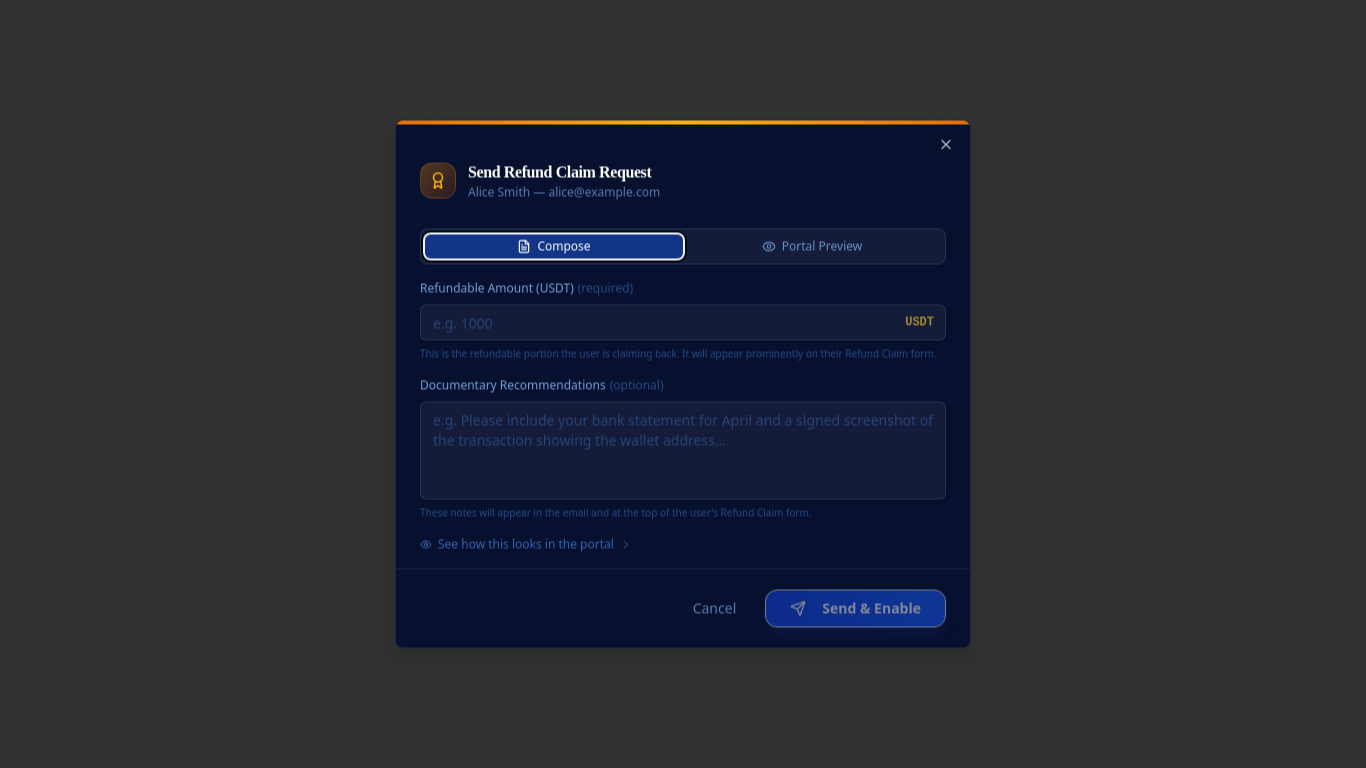
Test: RefundClaimRequestDialog › disables the send button while request is in-flight
Type "1000" into the number field with placeholder "e.g. 1000" at (683, 322), box [420,304,946,340]
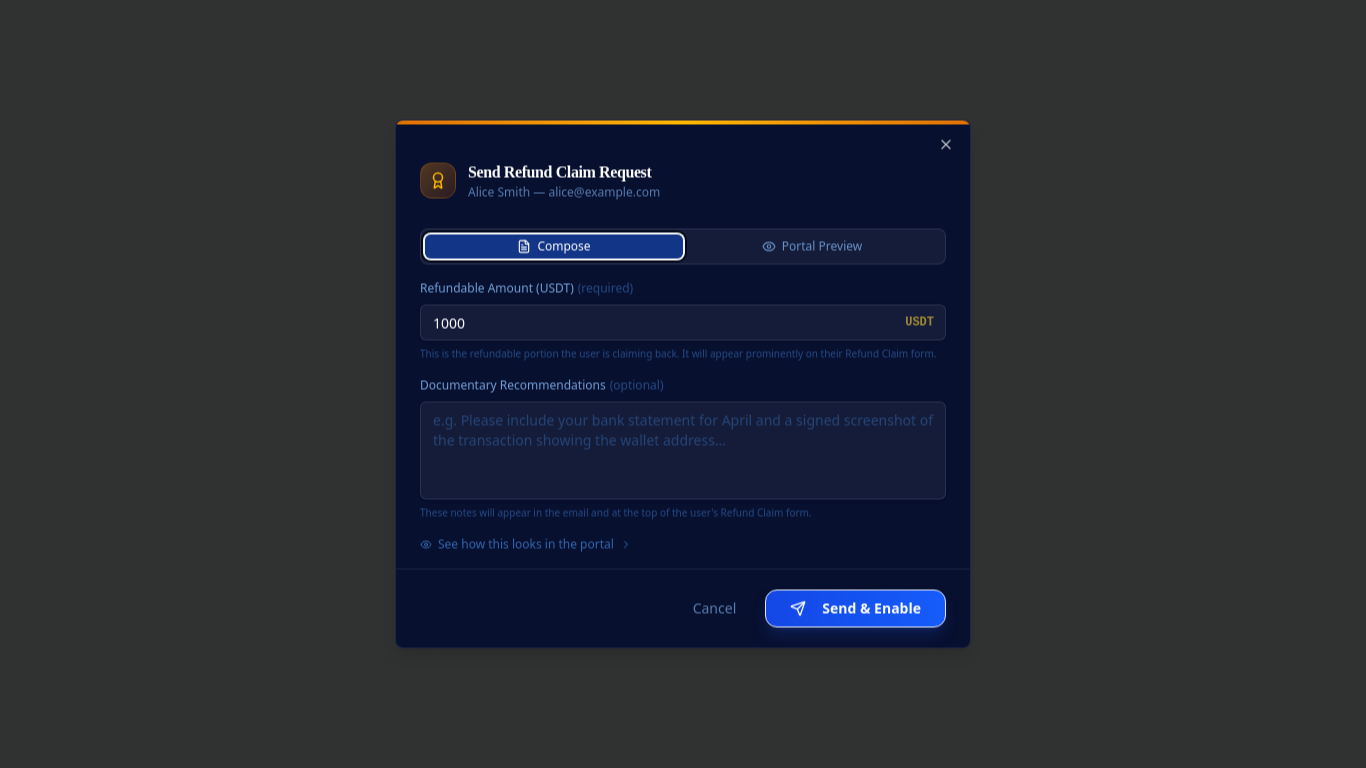
Click the button "Send & Enable" at (856, 608), box [765,590,946,628]
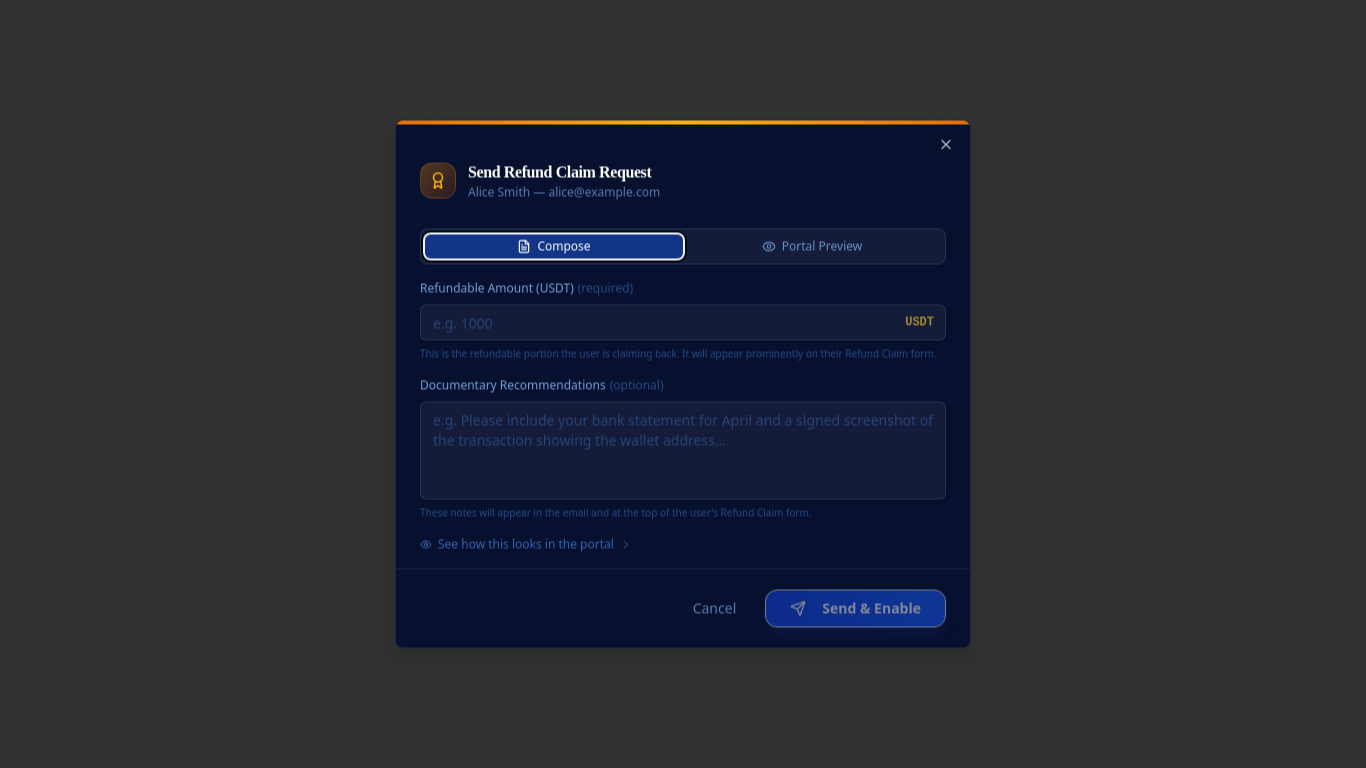
Now the button "Send & Enable" is disabled, box [765,590,946,628]
